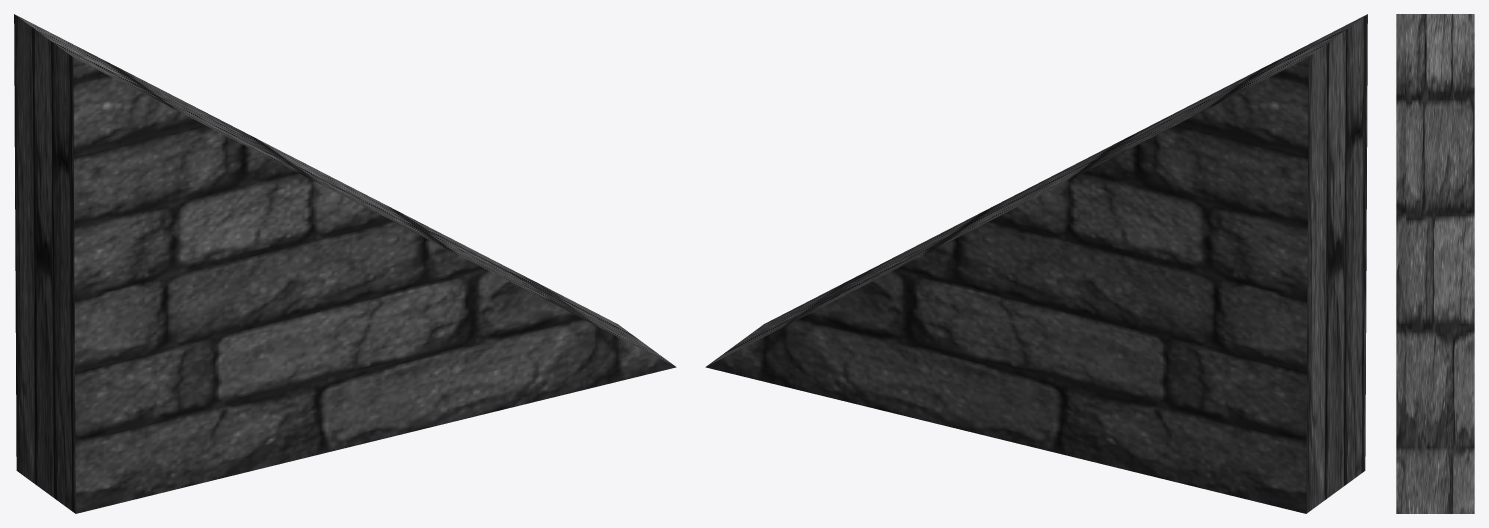
Rendered from stone 30.glb.
3 views of the same model, side by side, from view 1: azimuth 30°, elevation 25°; view 2: azimuth 150°, elevation 25°; view 3: azimuth 270°, elevation 25° (orthographic). The views are drawn at different scales.
Parts seen in each view (by area): view 1: Plane.001; view 2: Plane.001; view 3: Plane.001.
Part boxes in pixels (bbox=[...]): Plane.001: bbox=[14, 14, 676, 513]; Plane.001: bbox=[705, 14, 1367, 513]; Plane.001: bbox=[1396, 14, 1474, 513].
Bounding box in the file's own units: 1.94 × 1.41 × 0.3295.
1 material, 1 textured.
